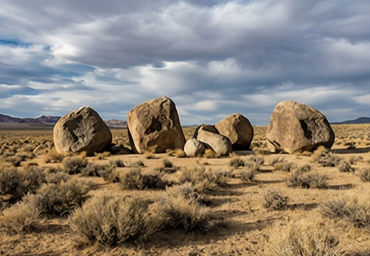rocks: (268, 100, 334, 152), (128, 98, 184, 152), (54, 107, 111, 153), (194, 113, 253, 154)
